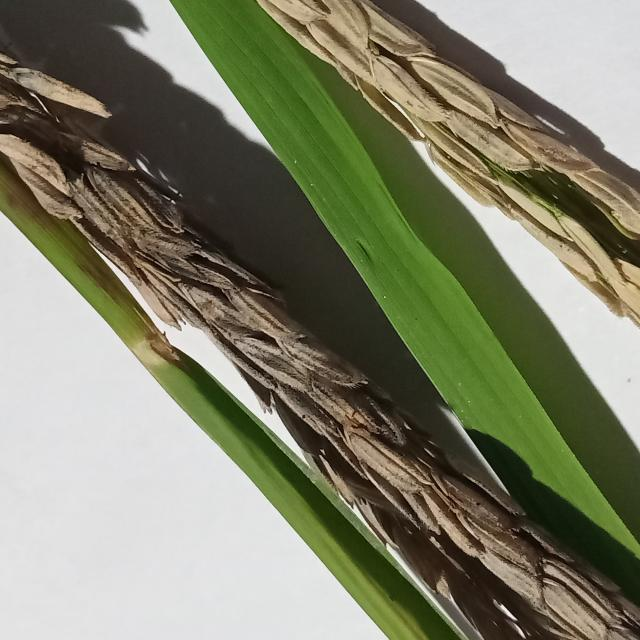Neck_Blast: (0, 45, 640, 640), (249, 0, 640, 338)
